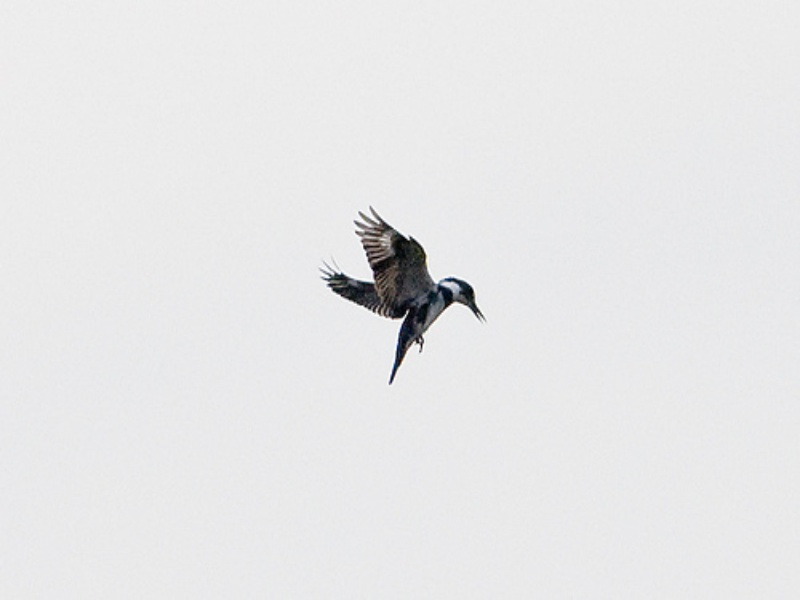kingfisher: (318, 202, 489, 390)
